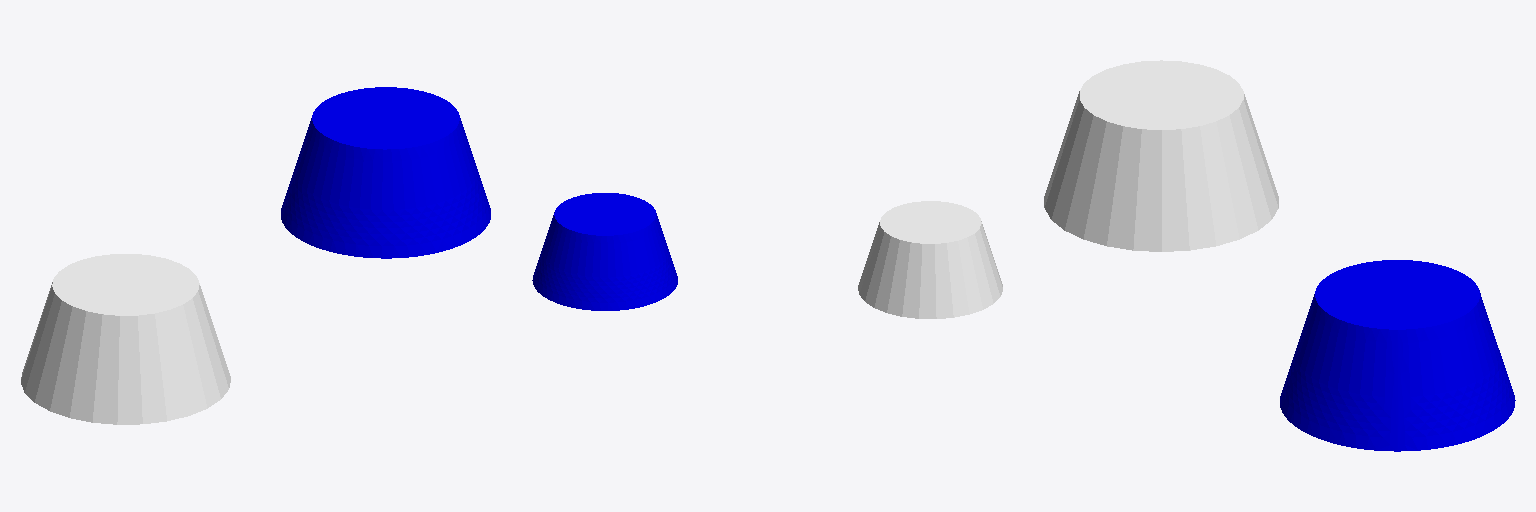
robot.urdf — part_import_test:
<?xml version="1.0"?>
<robot name="part_import_test">

   <material name="blue">
     <color rgba="0 0 1 1"/>
   </material>
   <material name="white">
     <color rgba="1 1 1 1"/>
   </material>
  
   <link name="import_part_dae">
    <visual>
      <origin rpy="0 0 0" xyz="0 0 0"/>
      <geometry>
        <mesh filename="package://urdf_test/meshes/test_part.dae"/>
      </geometry>
      <material name="white"/>
    </visual>
  </link>

   <link name="import_part_stl">
    <visual>
      <origin rpy="0 0 0" xyz="0.1 0.1 0"/>
      <geometry>
        <mesh filename="package://urdf_test/meshes/test_part.stl" scale="0.001 0.001 0.001"/>
      </geometry>
      <material name="blue"/>
    </visual>
  </link>

  <joint name="parts_joint" type="fixed">
    <parent link="import_part_dae"/>
    <child link="import_part_stl"/>
    <origin xyz="0.1 0 0"/>
  </joint>

</robot>

--- What the picture shows (computed from the rendered views, not written in the file) ---
Views: 3 orthographic renders of the robot side by side, from view 1: azimuth 30°, elevation 25°; view 2: azimuth 150°, elevation 25°; view 3: azimuth 270°, elevation 25°.
Model part_import_test with 2 links and 1 joints (1 fixed), rooted at import_part_dae, posed all joints at 0.
Visible links, largest first — view 1: import_part_stl, import_part_dae; view 2: import_part_stl, import_part_dae; view 3: import_part_stl, import_part_dae.
Boxes of the visible links, box(x1,y1,x2,y2) form: import_part_stl: box(281, 87, 490, 258); import_part_dae: box(21, 254, 230, 424); import_part_stl: box(532, 193, 677, 310); import_part_dae: box(858, 201, 1002, 318); import_part_stl: box(1280, 260, 1515, 451); import_part_dae: box(1044, 60, 1278, 251).
Size in the robot's own frame: 0.3 by 0.1996 by 0.05 metres.
Meshes: 2 distinct files referenced, 2 mesh visuals loaded (1 binary STL, 1 Collada DAE).